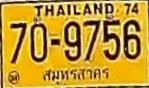0: (30, 22, 47, 61)
5: (102, 19, 119, 59)
6: (123, 19, 140, 58)
7: (9, 22, 26, 63), (83, 19, 100, 60)
9: (64, 20, 81, 60)
SKN: (41, 66, 111, 83)
